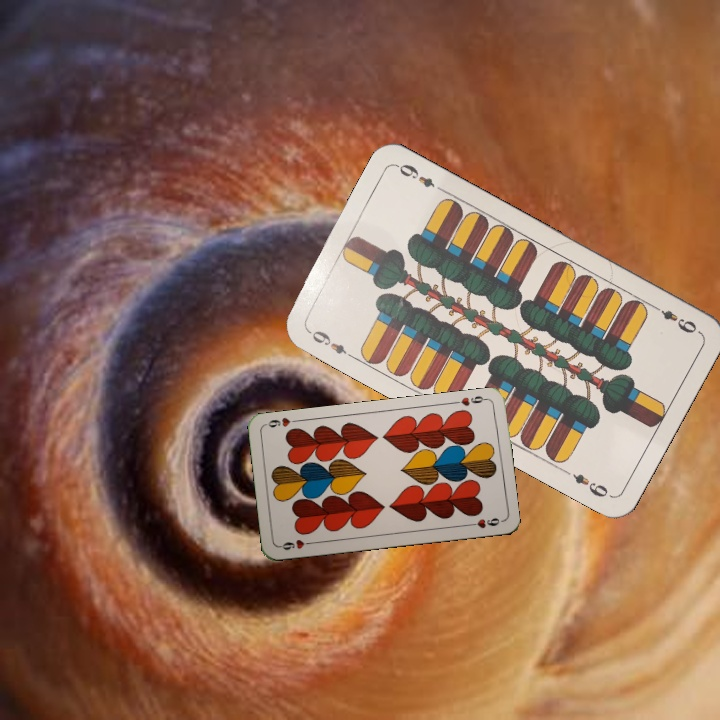E9: (303, 326, 357, 362), (648, 300, 700, 336)
H9: (449, 391, 490, 409), (276, 535, 316, 552)
